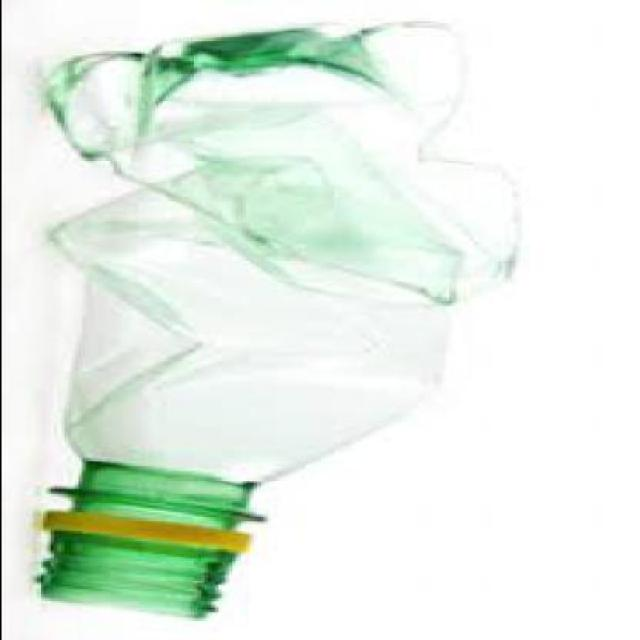PLASTIC: (24, 18, 524, 617)
